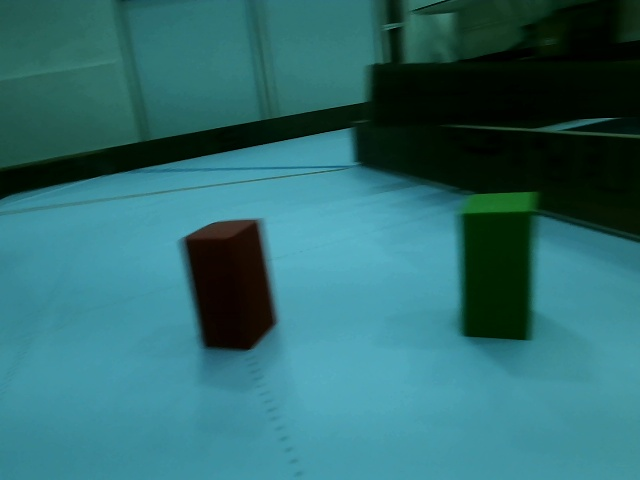red: (186, 228, 273, 342)
